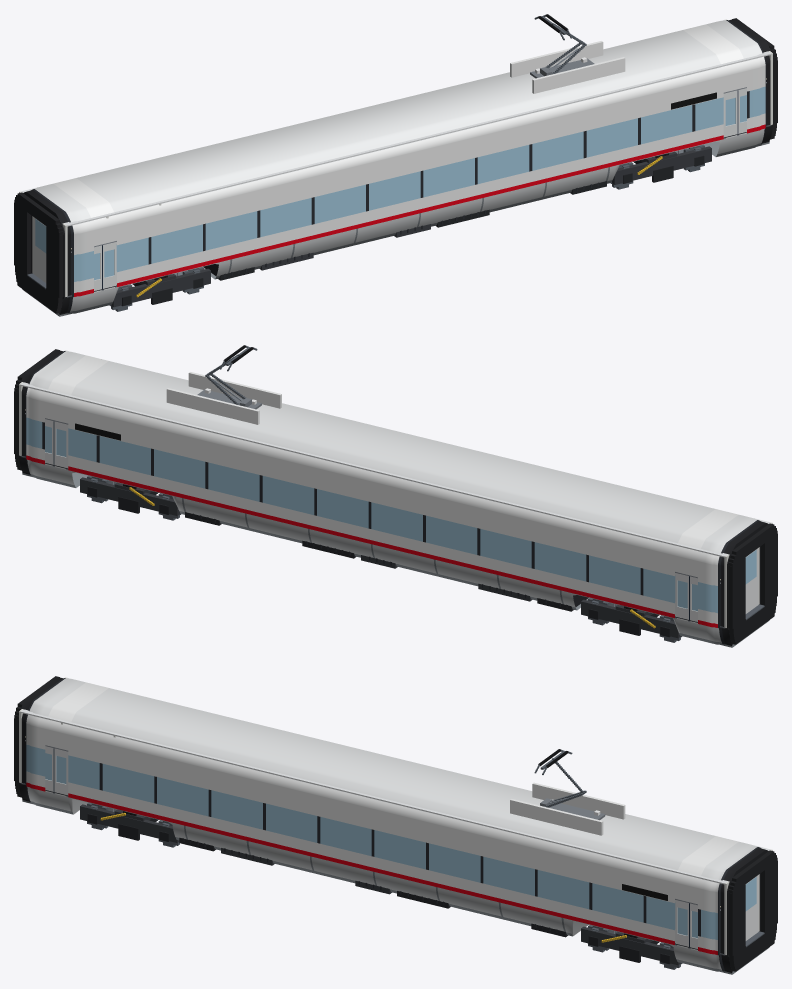
File: ice3_car.obj
3 views of the same model, one above another, from view 1: azimuth 30°, elevation 25°; view 2: azimuth 150°, elevation 25°; view 3: azimuth 330°, elevation 25° (orthographic).
Parts seen in each view (by area): view 1: SHELL, SHELL_diaphragm, SHELL_pantograph, SHELL_ceiling, BOGEY_FRONT, BOGEY_REAR, FRAME, CONNECTING_DOOR_1_CG_CR_TOGGLE_TL_0.98_Z, EXTERNAL_DOOR_10_CG_DR2_TOGGLE_TL_-0.44_X, EXTERNAL_DOOR_5_CG_DR1_TOGGLE_TL_0.44_X, SHELL_end; view 2: SHELL, SHELL_diaphragm, SHELL_pantograph, SHELL_ceiling, BOGEY_FRONT, BOGEY_REAR, FRAME, CONNECTING_DOOR_1_CG_CR_TOGGLE_TL_0.98_Z, EXTERNAL_DOOR_13_CG_DL2_TOGGLE_TL_-0.44_X, EXTERNAL_DOOR_8_CG_DL1_TOGGLE_TL_0.44_X, SHELL_end; view 3: SHELL, SHELL_diaphragm, SHELL_pantograph, SHELL_ceiling, BOGEY_FRONT, BOGEY_REAR, FRAME, CONNECTING_DOOR_2_CG_CF_TOGGLE_TL_0.98_Z, EXTERNAL_DOOR_5_CG_DR1_TOGGLE_TL_0.44_X, EXTERNAL_DOOR_10_CG_DR2_TOGGLE_TL_-0.44_X, SHELL_end.
Part boxes in pixels (x1,y1,x2,y2): SHELL: (22,18,773,316); SHELL_diaphragm: (14,18,777,313); SHELL_pantograph: (510,14,625,93); SHELL_ceiling: (21,19,771,226); BOGEY_FRONT: (612,146,711,184); BOGEY_REAR: (111,268,210,307); FRAME: (94,132,746,291); CONNECTING_DOOR_1_CG_CR_TOGGLE_TL_0.98_Z: (33,217,46,282); EXTERNAL_DOOR_10_CG_DR2_TOGGLE_TL_-0.44_X: (723,90,738,137); EXTERNAL_DOOR_5_CG_DR1_TOGGLE_TL_0.44_X: (103,242,116,288); SHELL_end: (19,19,772,296); SHELL: (18,349,769,647); SHELL_diaphragm: (14,349,777,644); SHELL_pantograph: (166,345,281,424); SHELL_ceiling: (20,350,770,557); BOGEY_FRONT: (80,477,179,515); BOGEY_REAR: (581,599,680,638); FRAME: (45,463,697,622); CONNECTING_DOOR_1_CG_CR_TOGGLE_TL_0.98_Z: (745,548,758,613); EXTERNAL_DOOR_13_CG_DL2_TOGGLE_TL_-0.44_X: (53,421,68,468); EXTERNAL_DOOR_8_CG_DL1_TOGGLE_TL_0.44_X: (675,573,688,619); SHELL_end: (19,350,772,627); SHELL: (18,676,769,974); SHELL_diaphragm: (14,676,777,971); SHELL_pantograph: (510,749,625,835); SHELL_ceiling: (20,677,770,884); BOGEY_FRONT: (581,926,680,965); BOGEY_REAR: (80,804,179,842); FRAME: (45,790,697,949); CONNECTING_DOOR_2_CG_CF_TOGGLE_TL_0.98_Z: (745,875,758,940); EXTERNAL_DOOR_5_CG_DR1_TOGGLE_TL_0.44_X: (54,748,68,795); EXTERNAL_DOOR_10_CG_DR2_TOGGLE_TL_-0.44_X: (675,900,689,947); SHELL_end: (19,677,772,954).
Bounding box in the file's own units: 25.12 × 5.68 × 2.97.
Materials: 1 (1 with a texture image).
